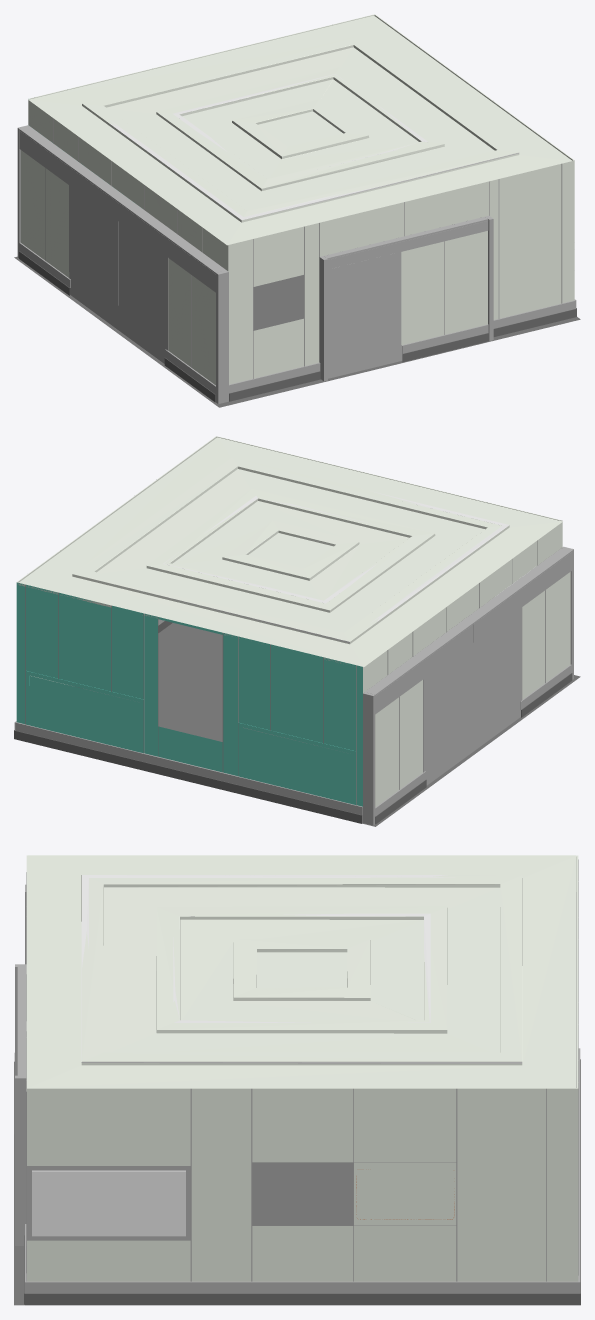
The model's file is Geometry Mod.dae.
The picture shows the model from 3 angles, top to bottom: view 1: azimuth 30°, elevation 25°; view 2: azimuth 150°, elevation 25°; view 3: azimuth 270°, elevation 25°; orthographic projection. The views are drawn at different scales.
Parts seen in each view (by area): view 1: Ceiling, Wall, Door 4, Door 1, Floor; view 2: Ceiling, Wall, Door 4, Floor; view 3: Ceiling, Wall, Floor, Door 1.
Boxes of the visible parts, <box> form: Ceiling: <box>28,15,571,245</box>; Wall: <box>19,14,576,402</box>; Door 4: <box>17,125,228,403</box>; Door 1: <box>319,215,493,381</box>; Floor: <box>14,256,580,407</box>; Ceiling: <box>19,437,562,666</box>; Wall: <box>14,436,572,824</box>; Door 4: <box>363,546,573,825</box>; Floor: <box>83,623,580,826</box>; Ceiling: <box>27,855,576,1087</box>; Wall: <box>24,855,580,1305</box>; Floor: <box>14,1061,576,1305</box>; Door 1: <box>14,964,26,1245</box>.
Bounding box in the file's own units: 7.05 × 6.93 × 2.95.
